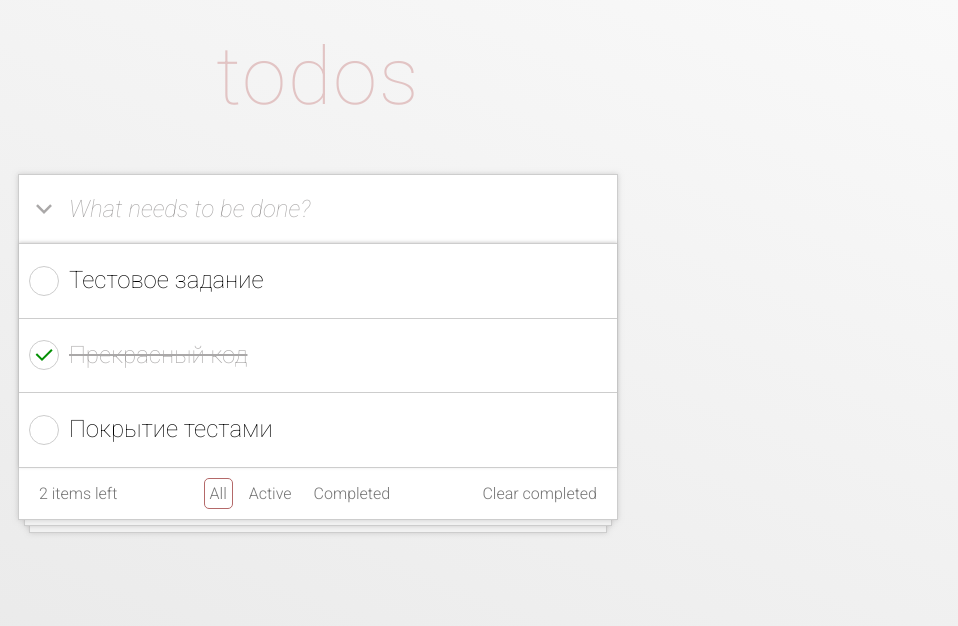
add todo › add not empty todo
This screenshot has width=958, height=626.
Expected: the number of list items with class "todo" is 3, top-left (19, 243), bottom-right (617, 318); top-left (19, 318), bottom-right (617, 392); top-left (19, 392), bottom-right (617, 467)
Type "Почитать про Node" into the field at coordinates (338, 209), box top-left (59, 175), bottom-right (617, 243)
Then press Enter
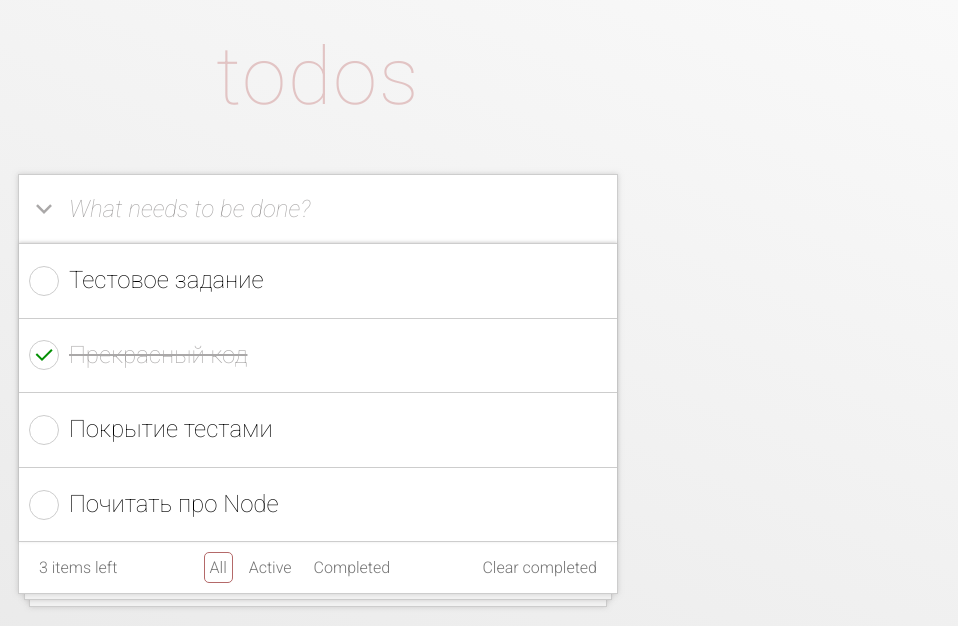
Now the number of list items with class "todo" is 4, box top-left (19, 243), bottom-right (617, 318); top-left (19, 318), bottom-right (617, 392); top-left (19, 392), bottom-right (617, 467); top-left (19, 467), bottom-right (617, 541)
